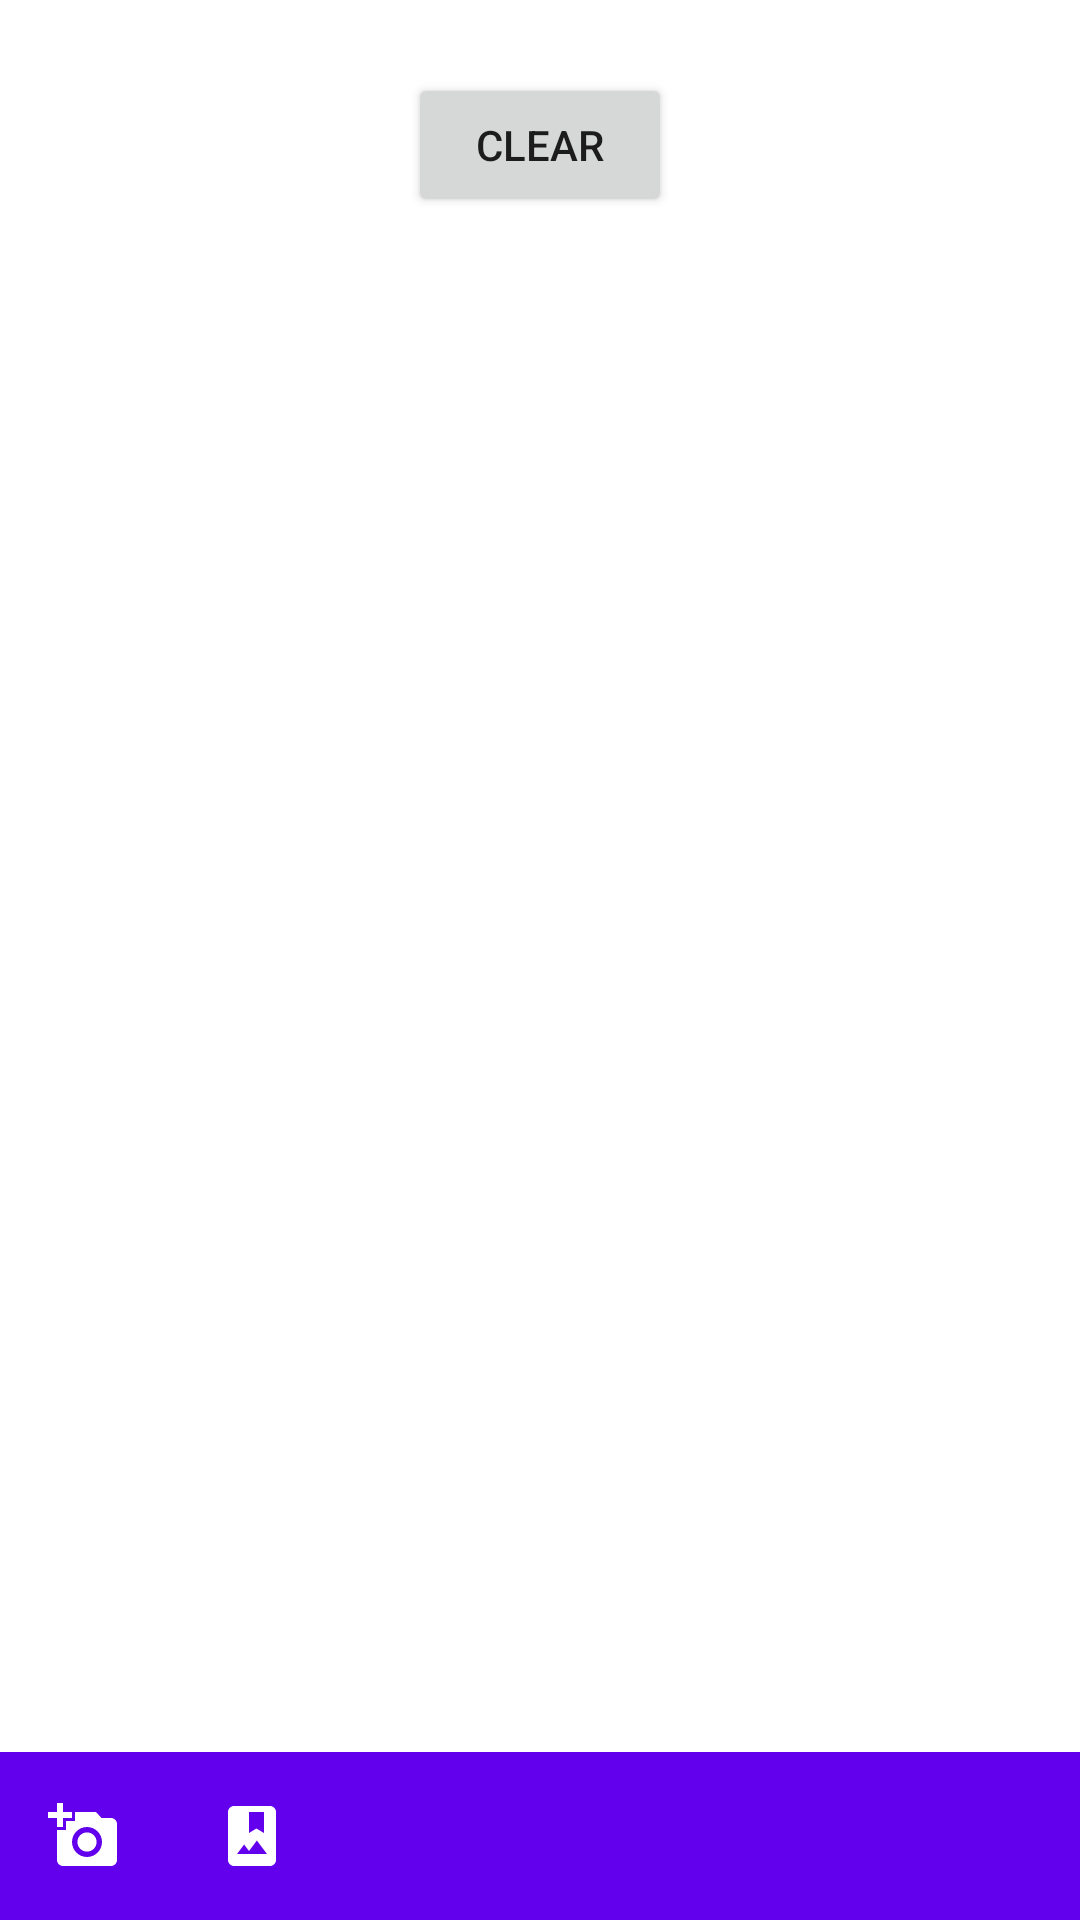

Named icons in this screenshot (1080px×1920px) and their centers, (x=x, y=y):
add photo: (x=82, y=1834)
photo album: (x=252, y=1836)
